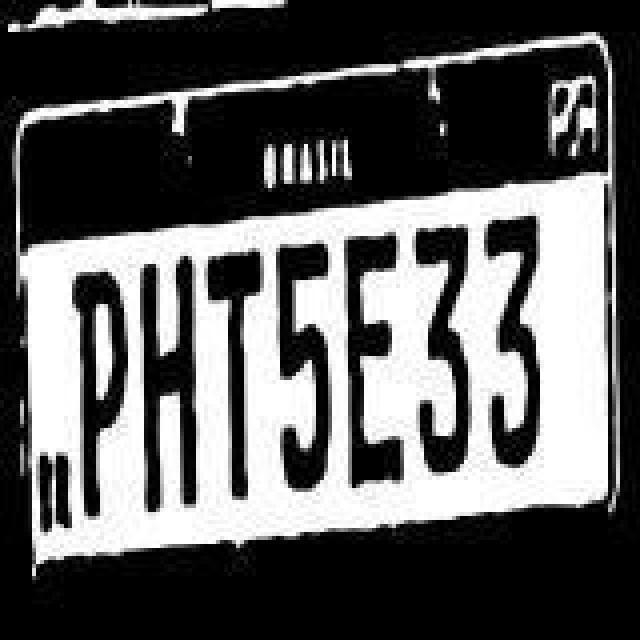3: (480, 198, 544, 474), (416, 218, 472, 486)
5: (274, 226, 334, 502)
E: (344, 220, 408, 492)
H: (134, 242, 202, 518)
P: (68, 258, 132, 526)
T: (202, 230, 262, 506)
